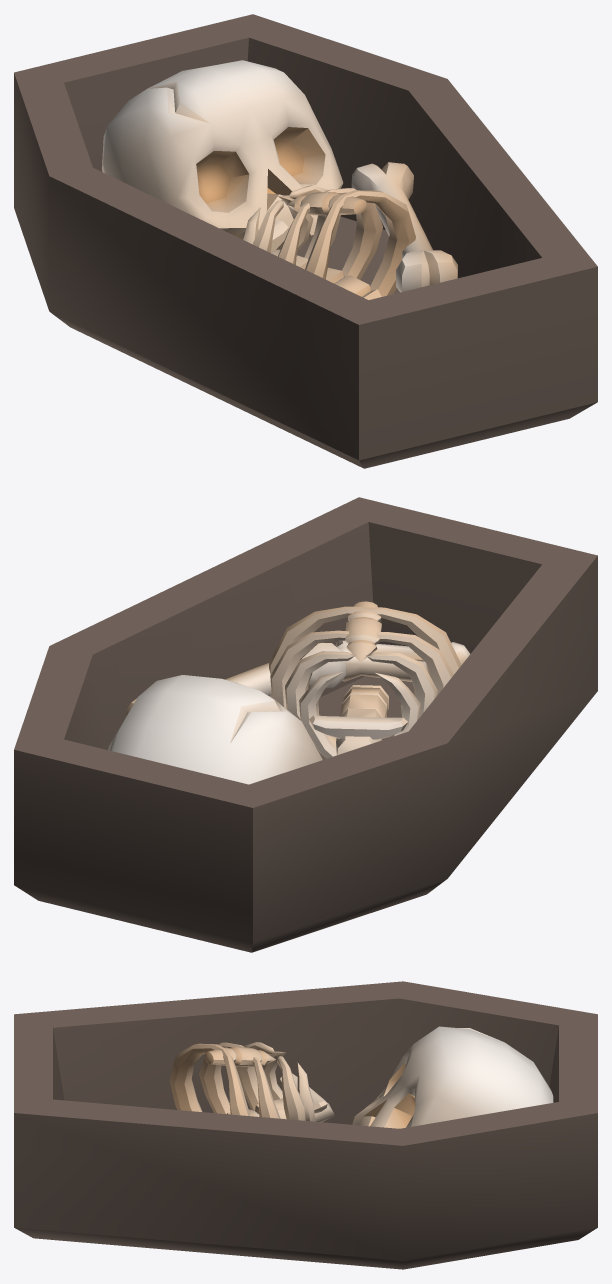
The model's file is coffin_decorated.glb.
The picture shows the model from 3 angles, top to bottom: view 1: azimuth 30°, elevation 25°; view 2: azimuth 150°, elevation 25°; view 3: azimuth 270°, elevation 25°; orthographic projection. The views are drawn at different scales.
Visible parts, largest first — view 1: coffin_decorated; view 2: coffin_decorated; view 3: coffin_decorated.
Part boxes in pixels (x1,y1,x2,y2): coffin_decorated: (14,14,597,468); coffin_decorated: (14,497,597,952); coffin_decorated: (14,981,597,1269).
Bounding box in the file's own units: 2 × 0.9025 × 3.
Materials: 1 (1 with a texture image).
